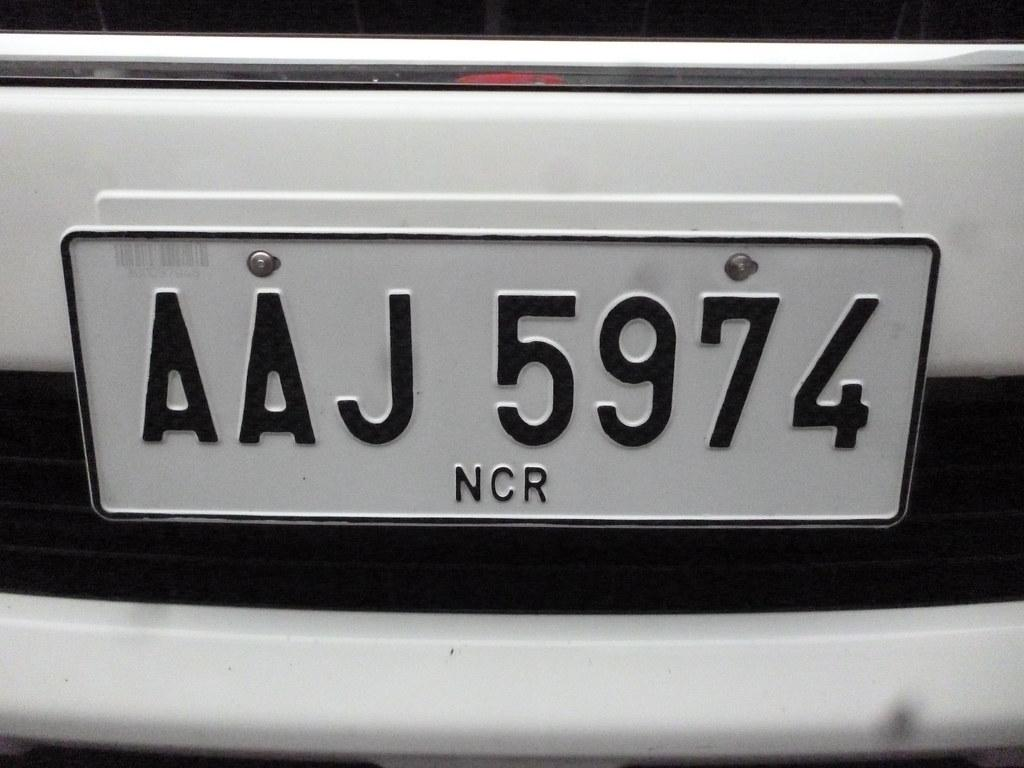plate: (65, 232, 937, 522)
